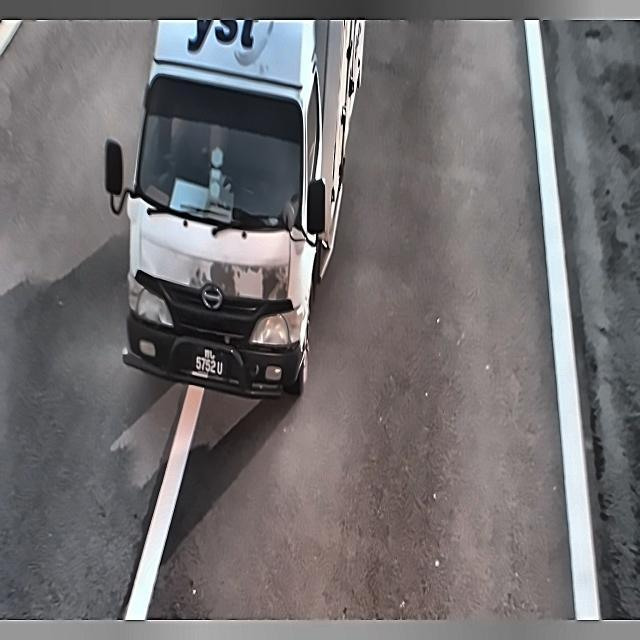car: (183, 343, 232, 380)
